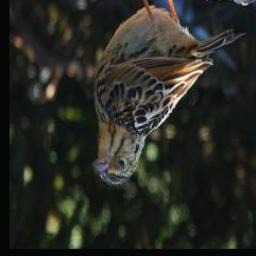Sparrow: (85, 0, 249, 195)
